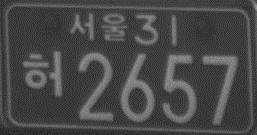1: (167, 12, 181, 48)
2: (77, 51, 116, 123)
3: (132, 11, 158, 47)
5: (160, 53, 198, 126)
6: (119, 52, 156, 121)
7: (200, 54, 241, 124)
서울_O: (69, 11, 129, 44)
허: (21, 49, 65, 98)
